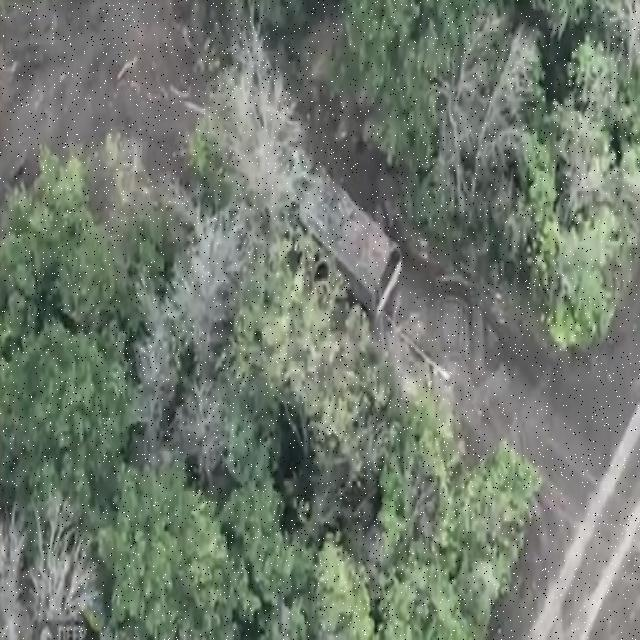TRUCK: (272, 136, 403, 342)
